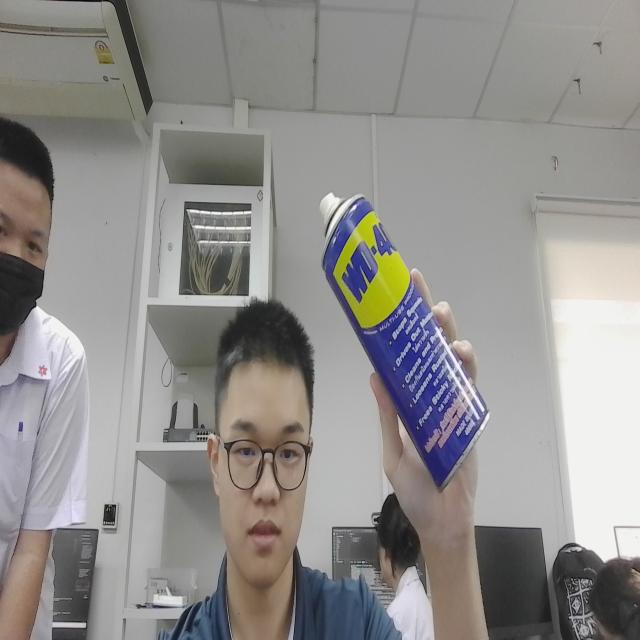wd-40: (307, 168, 500, 507)
